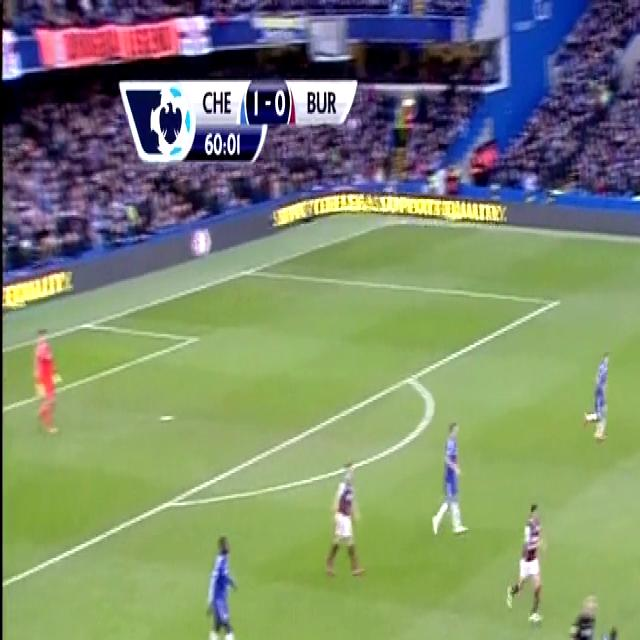goalkeeper: (33, 318, 67, 440)
referee: (563, 581, 600, 640)
soccer-player: (506, 491, 556, 633), (316, 448, 366, 589), (192, 515, 246, 640), (425, 403, 471, 542), (579, 343, 617, 455), (588, 626, 640, 640)
